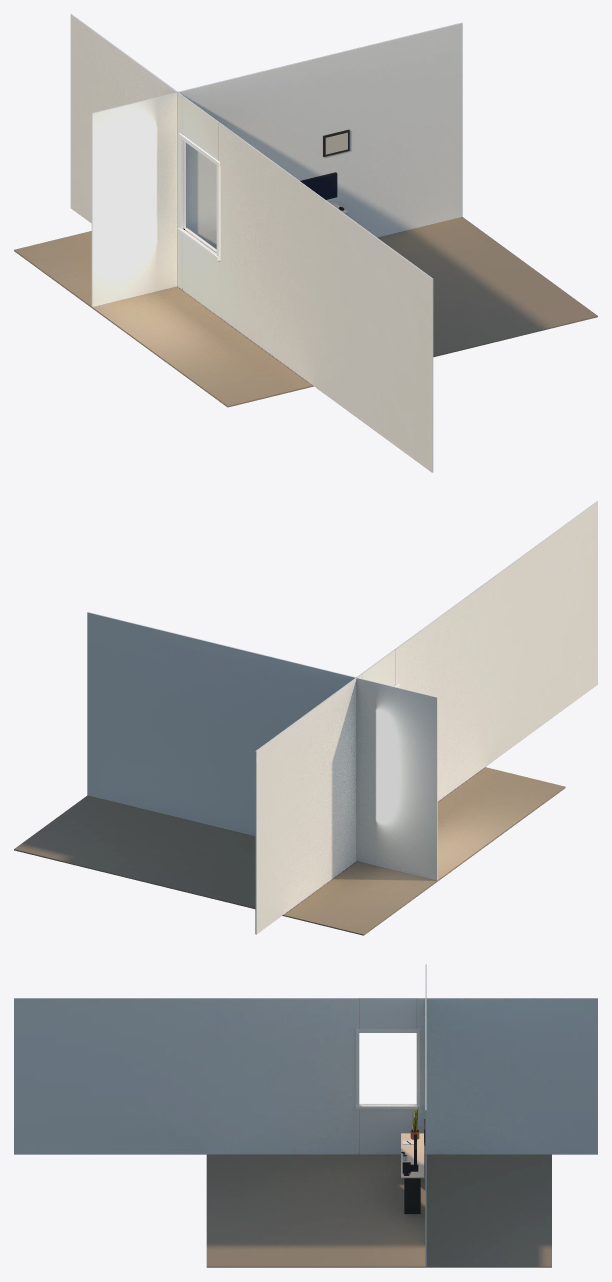
File: room.glb
The picture shows the model from 3 angles, top to bottom: view 1: azimuth 30°, elevation 25°; view 2: azimuth 150°, elevation 25°; view 3: azimuth 270°, elevation 25°; orthographic projection. The views are drawn at different scales.
Parts seen in each view (by area): view 1: wall_back, wall_left_a, floor, wall_left_b, wall_left_c, wall_left_d; view 2: wall_back, wall_left_a, floor, wall_left_b, wall_left_d; view 3: wall_left_a, floor, wall_left_b, wall_left_c, wall_left_d, desk_top, desk_leg_r, wall_back, win_sill.
Part boxes in pixels (x1=…): wall_back: x1=91, y1=22, x2=462, y2=306; wall_left_a: x1=218, y1=122, x2=433, y2=472; floor: x1=14, y1=217, x2=597, y2=407; wall_left_b: x1=70, y1=14, x2=183, y2=289; wall_left_c: x1=183, y1=230, x2=218, y2=315; wall_left_d: x1=183, y1=96, x2=219, y2=160; wall_back: x1=87, y1=612, x2=437, y2=880; wall_left_a: x1=395, y1=501, x2=597, y2=801; floor: x1=14, y1=767, x2=565, y2=935; wall_left_b: x1=255, y1=673, x2=362, y2=934; wall_left_d: x1=361, y1=649, x2=395, y2=686; wall_left_a: x1=14, y1=998, x2=359, y2=1154; floor: x1=206, y1=1154, x2=551, y2=1267; wall_left_b: x1=416, y1=998, x2=597, y2=1154; wall_left_c: x1=359, y1=1104, x2=416, y2=1154; wall_left_d: x1=359, y1=998, x2=416, y2=1028; desk_top: x1=401, y1=1133, x2=424, y2=1178; desk_leg_r: x1=404, y1=1178, x2=420, y2=1213; wall_back: x1=425, y1=964, x2=426, y2=1266; win_sill: x1=355, y1=1103, x2=420, y2=1109.
Size of the model in its own units: 6 by 3.02 by 10.15.
Materials: 55 (55 with a texture image).
